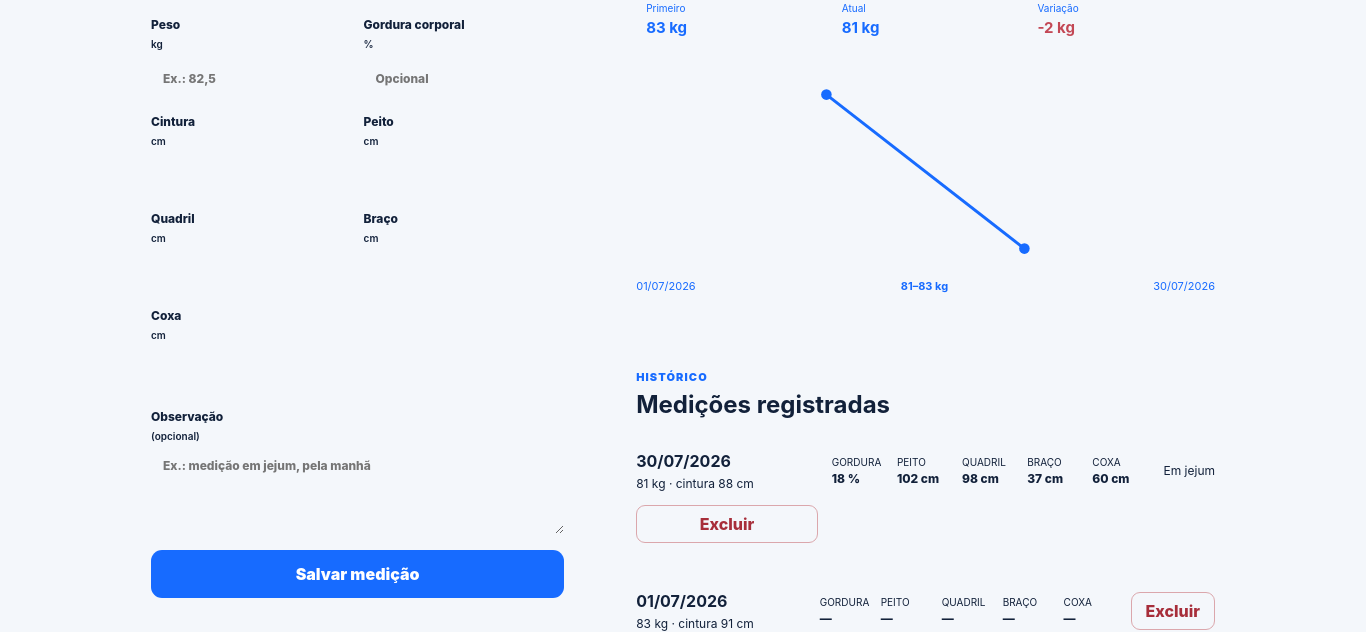
Scenario: evolução corporal › não envia um formulário sem medidas
The image size is (1366, 632).
(page scrolled)
Expected: the text "Em jejum" is shown, [1164,463,1215,478]
Click the button "Salvar medição" at (358, 574), box [151,550,564,598]
(page scrolled)
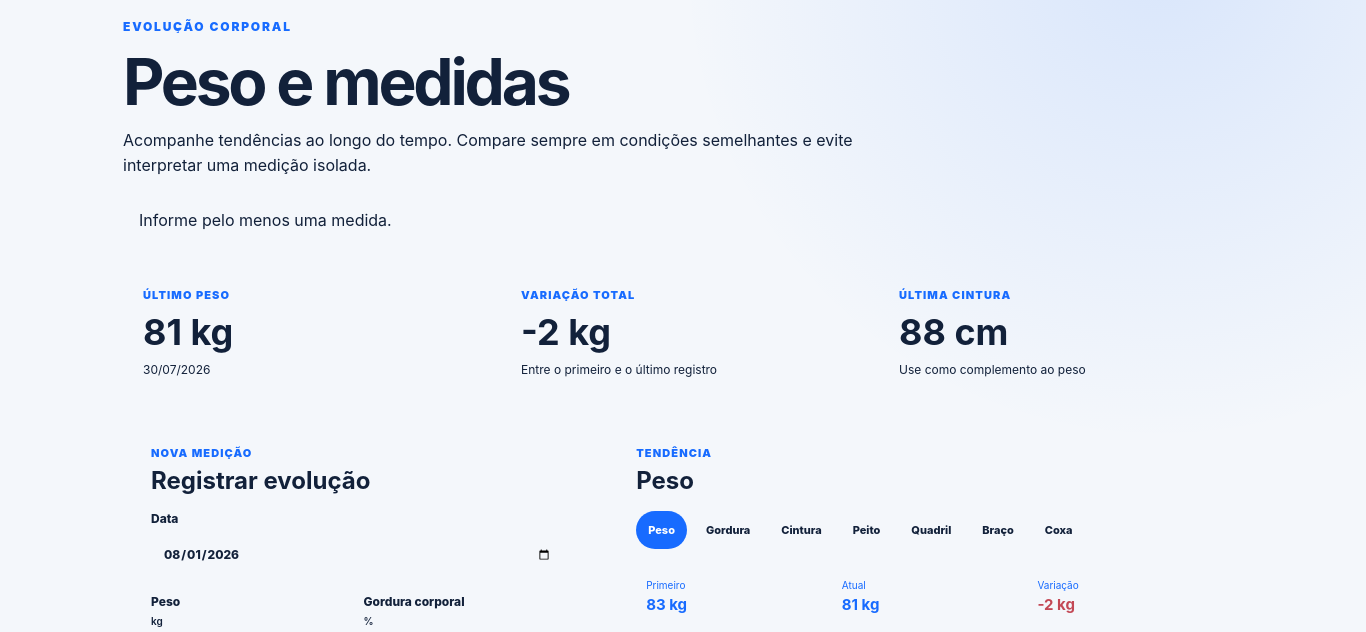
Now the text "Informe pelo menos uma medida." is shown, box [139,210,392,230]
